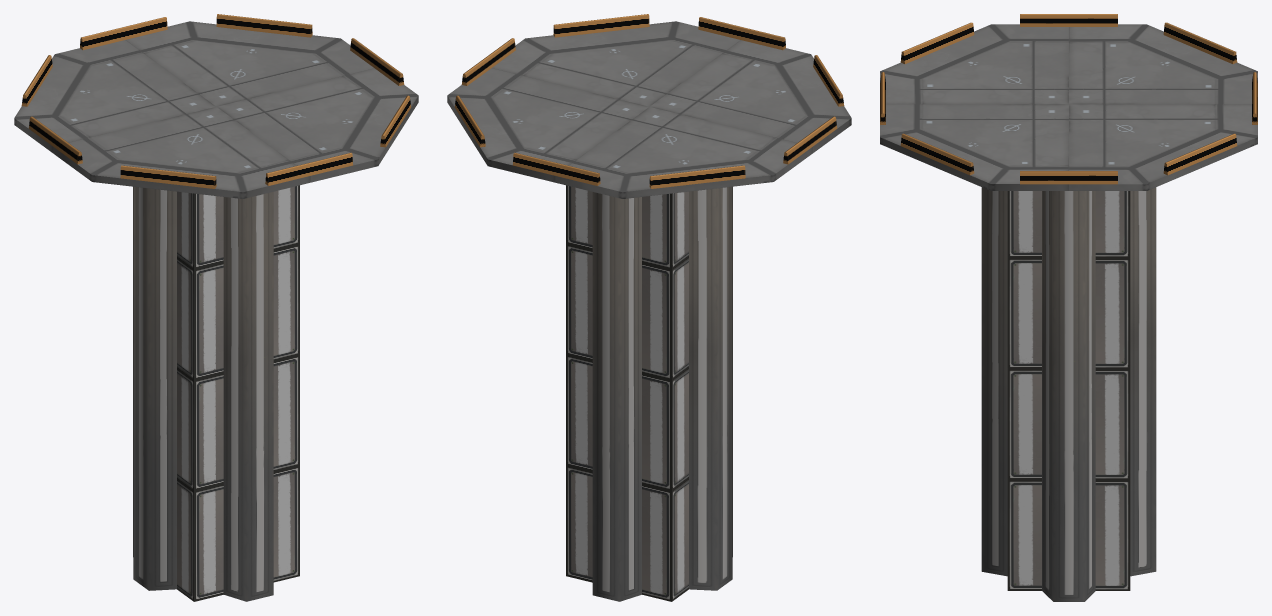
The model's file is Sci-Fi_Prefab_Var0.fbx.
3 renders of one model, left to right at view 1: azimuth 30°, elevation 25°; view 2: azimuth 150°, elevation 25°; view 3: azimuth 270°, elevation 25°, orthographic.
Visible parts, largest first — view 1: ProjectRG_Environment_Sci-Fi_TallTowerSupport.004, ProjectRG_Environment_Sci-Fi_TallTowerSupport.002, ProjectRG_Environment_Sci-Fi_OctagonPlatform.002, ProjectRG_Environment_Sci-Fi_OctagonPlatform.003, ProjectRG_Environment_Sci-Fi_OctagonPlatform.004, ProjectRG_Environment_Sci-Fi_OctagonPlatform.001, ProjectRG_Environment_Sci-Fi_ModBlock_Tall.011, ProjectRG_Environment_Sci-Fi_ModBlock_Tall.003, ProjectRG_Environment_Sci-Fi_ModBlock_Tall.007, ProjectRG_Environment_Sci-Fi_ModBlock_Tall.015, ProjectRG_Environment_Sci-Fi_ModBlock_Tall.002, ProjectRG_Environment_Sci-Fi_ModBlock_Tall.006 (+10 smaller); view 2: ProjectRG_Environment_Sci-Fi_TallTowerSupport.003, ProjectRG_Environment_Sci-Fi_TallTowerSupport.002, ProjectRG_Environment_Sci-Fi_OctagonPlatform.001, ProjectRG_Environment_Sci-Fi_OctagonPlatform.004, ProjectRG_Environment_Sci-Fi_OctagonPlatform.003, ProjectRG_Environment_Sci-Fi_OctagonPlatform.002, ProjectRG_Environment_Sci-Fi_ModBlock_Tall.012, ProjectRG_Environment_Sci-Fi_ModBlock_Tall.004, ProjectRG_Environment_Sci-Fi_ModBlock_Tall.008, ProjectRG_Environment_Sci-Fi_ModBlock_Tall.016, ProjectRG_Environment_Sci-Fi_ModBlock_Tall.001, ProjectRG_Environment_Sci-Fi_ModBlock_Tall.005 (+10 smaller); view 3: ProjectRG_Environment_Sci-Fi_TallTowerSupport.001, ProjectRG_Environment_Sci-Fi_OctagonPlatform.003, ProjectRG_Environment_Sci-Fi_OctagonPlatform.004, ProjectRG_Environment_Sci-Fi_OctagonPlatform.001, ProjectRG_Environment_Sci-Fi_OctagonPlatform.002, ProjectRG_Environment_Sci-Fi_TallTowerSupport.004, ProjectRG_Environment_Sci-Fi_TallTowerSupport.003, ProjectRG_Environment_Sci-Fi_ModBlock_Tall.001, ProjectRG_Environment_Sci-Fi_ModBlock_Tall.005, ProjectRG_Environment_Sci-Fi_ModBlock_Tall.009, ProjectRG_Environment_Sci-Fi_ModBlock_Tall.002, ProjectRG_Environment_Sci-Fi_ModBlock_Tall.006 (+9 smaller).
Part boxes in pixels (<box>): ProjectRG_Environment_Sci-Fi_TallTowerSupport.004: <box>223,192,273,601</box>; ProjectRG_Environment_Sci-Fi_TallTowerSupport.002: <box>133,186,176,590</box>; ProjectRG_Environment_Sci-Fi_OctagonPlatform.002: <box>53,107,310,198</box>; ProjectRG_Environment_Sci-Fi_OctagonPlatform.003: <box>217,68,418,182</box>; ProjectRG_Environment_Sci-Fi_OctagonPlatform.004: <box>125,21,373,106</box>; ProjectRG_Environment_Sci-Fi_OctagonPlatform.001: <box>14,40,215,152</box>; ProjectRG_Environment_Sci-Fi_ModBlock_Tall.011: <box>177,257,223,380</box>; ProjectRG_Environment_Sci-Fi_ModBlock_Tall.003: <box>177,479,223,601</box>; ProjectRG_Environment_Sci-Fi_ModBlock_Tall.007: <box>177,368,223,490</box>; ProjectRG_Environment_Sci-Fi_ModBlock_Tall.015: <box>177,191,223,269</box>; ProjectRG_Environment_Sci-Fi_ModBlock_Tall.002: <box>273,465,299,582</box>; ProjectRG_Environment_Sci-Fi_ModBlock_Tall.006: <box>273,354,299,471</box>; ProjectRG_Environment_Sci-Fi_TallTowerSupport.003: <box>592,192,641,601</box>; ProjectRG_Environment_Sci-Fi_TallTowerSupport.002: <box>689,186,732,590</box>; ProjectRG_Environment_Sci-Fi_OctagonPlatform.001: <box>555,107,812,198</box>; ProjectRG_Environment_Sci-Fi_OctagonPlatform.004: <box>447,68,648,182</box>; ProjectRG_Environment_Sci-Fi_OctagonPlatform.003: <box>492,21,740,106</box>; ProjectRG_Environment_Sci-Fi_OctagonPlatform.002: <box>650,40,851,153</box>; ProjectRG_Environment_Sci-Fi_ModBlock_Tall.012: <box>642,257,688,380</box>; ProjectRG_Environment_Sci-Fi_ModBlock_Tall.004: <box>642,479,688,601</box>; ProjectRG_Environment_Sci-Fi_ModBlock_Tall.008: <box>642,368,688,490</box>; ProjectRG_Environment_Sci-Fi_ModBlock_Tall.016: <box>642,191,688,269</box>; ProjectRG_Environment_Sci-Fi_ModBlock_Tall.001: <box>566,465,592,582</box>; ProjectRG_Environment_Sci-Fi_ModBlock_Tall.005: <box>566,354,592,471</box>; ProjectRG_Environment_Sci-Fi_TallTowerSupport.001: <box>1042,191,1095,601</box>; ProjectRG_Environment_Sci-Fi_OctagonPlatform.003: <box>880,104,1068,190</box>; ProjectRG_Environment_Sci-Fi_OctagonPlatform.004: <box>1069,104,1257,190</box>; ProjectRG_Environment_Sci-Fi_OctagonPlatform.001: <box>1069,24,1257,104</box>; ProjectRG_Environment_Sci-Fi_OctagonPlatform.002: <box>880,24,1068,104</box>; ProjectRG_Environment_Sci-Fi_TallTowerSupport.004: <box>981,187,1007,576</box>; ProjectRG_Environment_Sci-Fi_TallTowerSupport.003: <box>1130,187,1156,576</box>; ProjectRG_Environment_Sci-Fi_ModBlock_Tall.001: <box>1095,480,1130,590</box>; ProjectRG_Environment_Sci-Fi_ModBlock_Tall.005: <box>1095,369,1130,479</box>; ProjectRG_Environment_Sci-Fi_ModBlock_Tall.009: <box>1095,258,1130,368</box>; ProjectRG_Environment_Sci-Fi_ModBlock_Tall.002: <box>1007,480,1041,590</box>; ProjectRG_Environment_Sci-Fi_ModBlock_Tall.006: <box>1007,369,1041,479</box>.
Size of the model in its own units: 3087 by 4258 by 3087.
